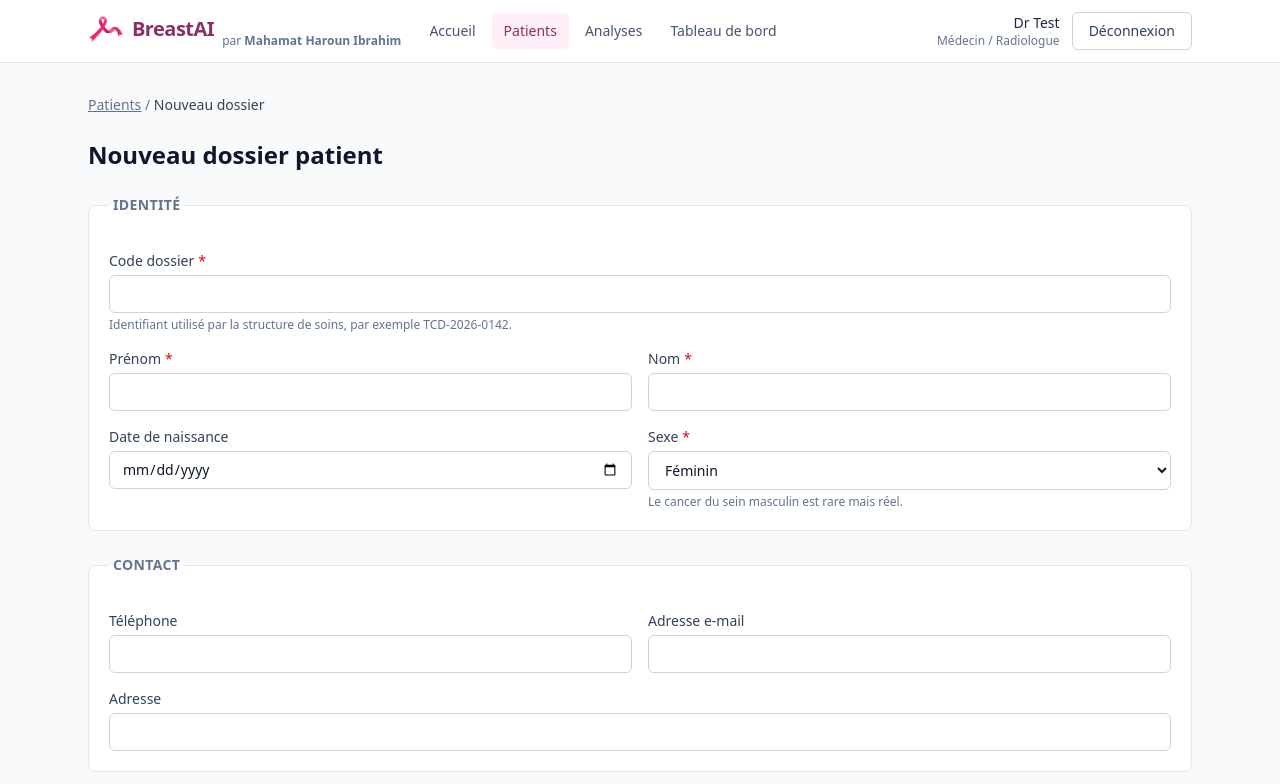
Formulaire patient › affiche le conflit renvoyé sur un code déjà utilisé
Expected: the heading "Nouveau dossier patient" is shown, [88,138,383,171]
Step 1. Type "TCD-2026-0001" into the field labelled "Code dossier*" → (640, 294), box [109,275,1171,313]
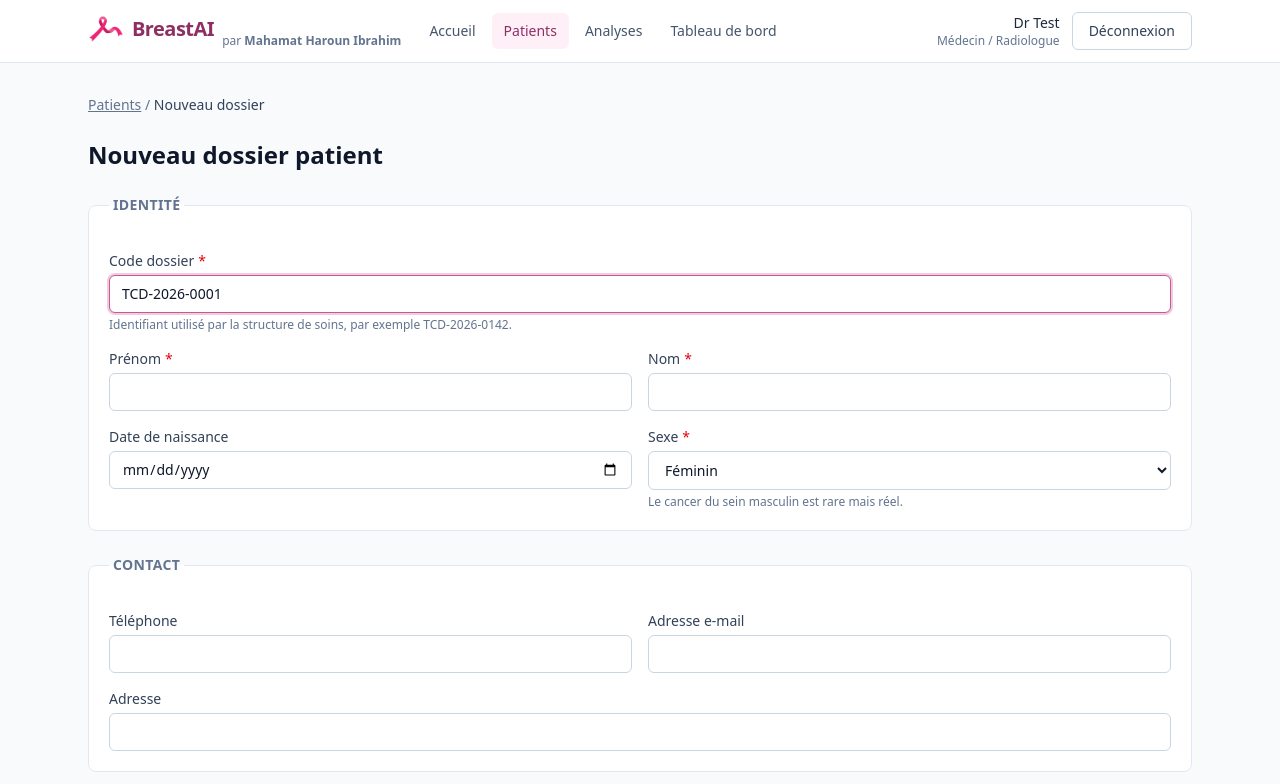
Step 2. Type "Amina" into the field labelled "Prénom*" → (370, 392), box [109,373,632,411]
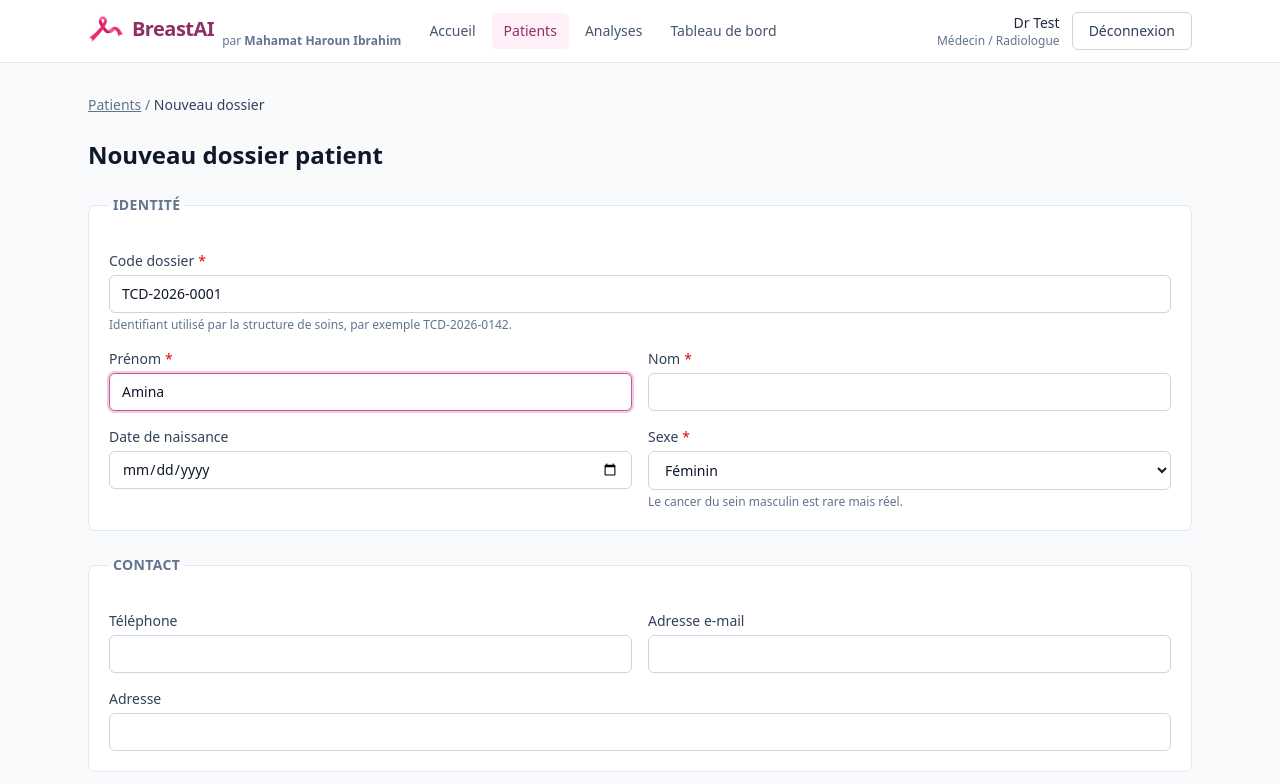
Step 3. Type "Ali" into the field labelled "Nom*" → (910, 392), box [648,373,1171,411]
(page scrolled)
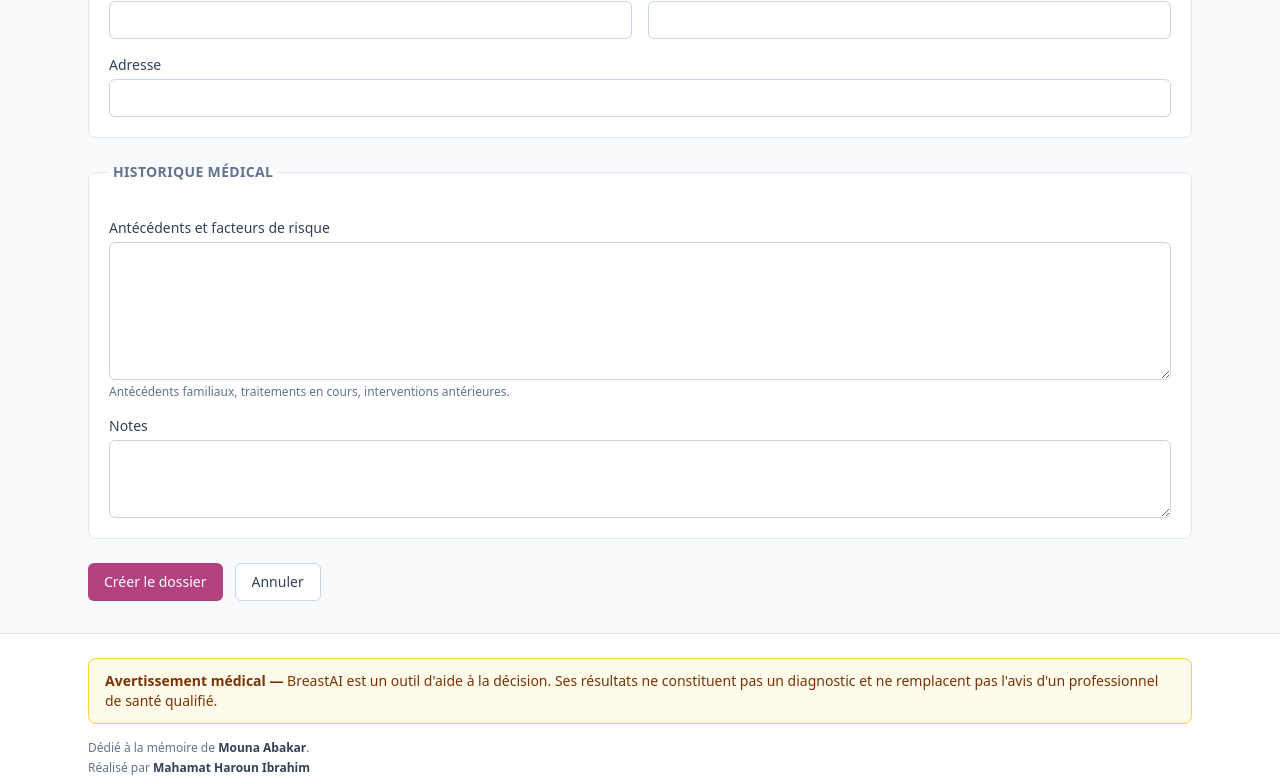
Step 4. Click the button "Créer le dossier" → (155, 582), box [88,563,222,601]
(page scrolled)
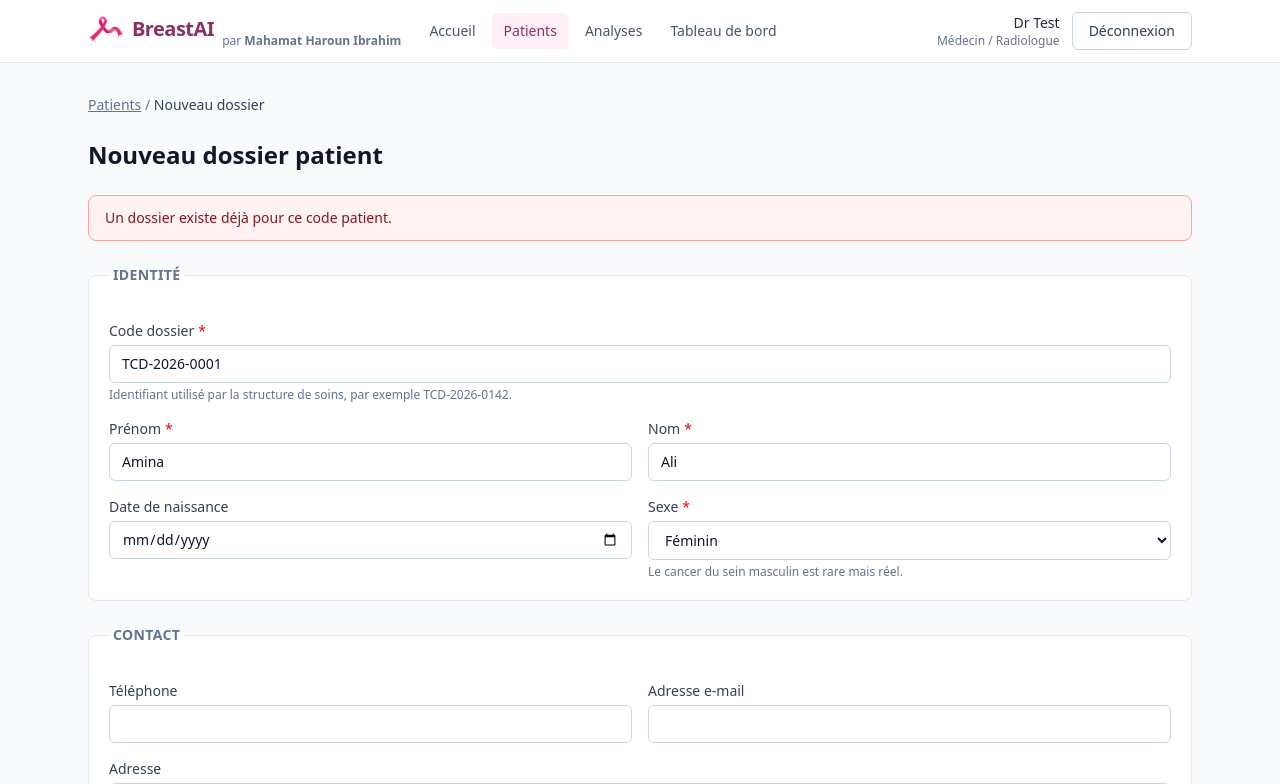
Expected: the text "Un dossier existe déjà pour ce code patient." is shown, [88,195,1192,241]
